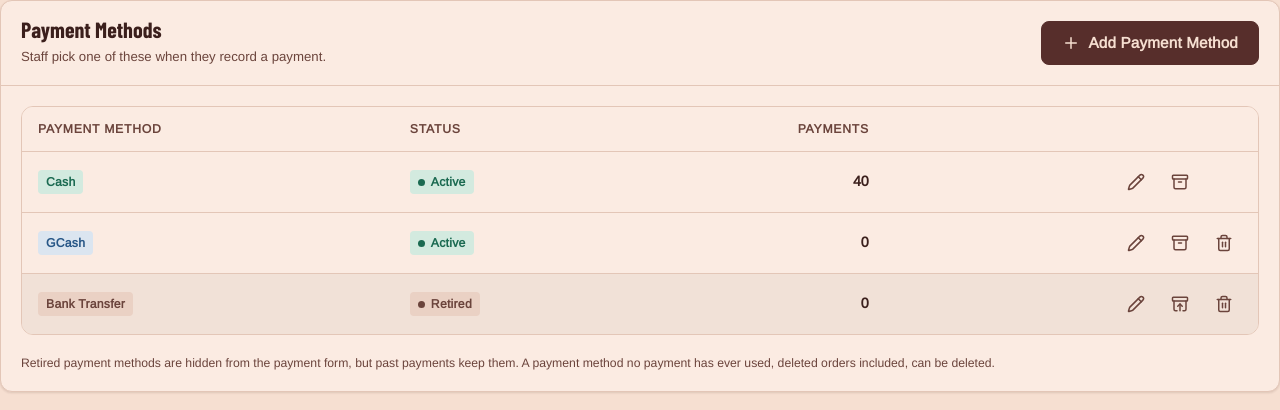
Scenario: S1 list card: payment-methods › brings an entry back with the per-list toast
Expected: the table named "Payment methods" is shown, [22,107,1258,334]
Click the button named "Use Bank Transfer again": {"x": 1180, "y": 304} [1162,286,1198,322]
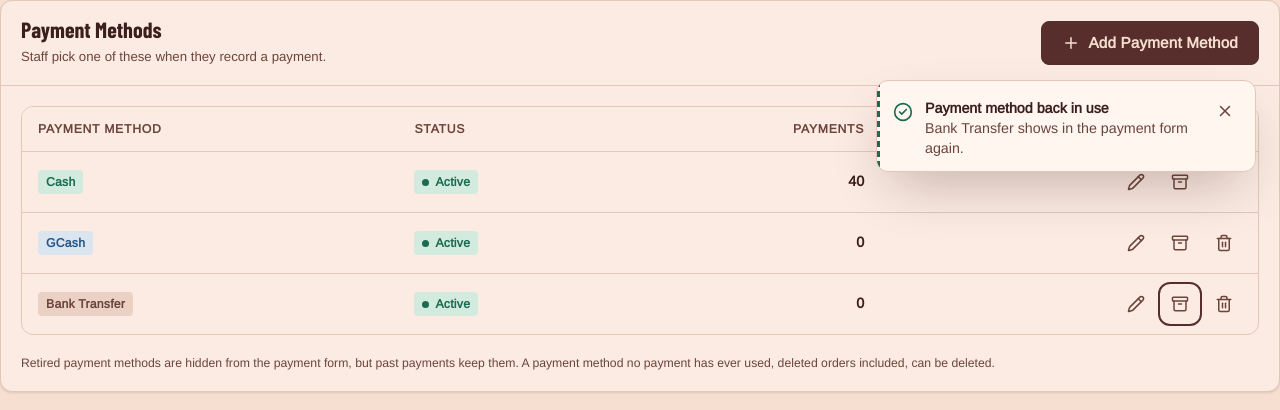
Expected: the text "Active" is shown, [414,292,478,316]
Expected: the text "Payment method back in use" is shown, [925,101,1109,116]
